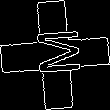M_W: (28, 30, 82, 80)
